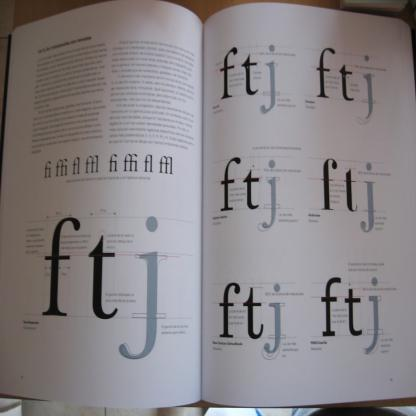book: (86, 15, 416, 390)
